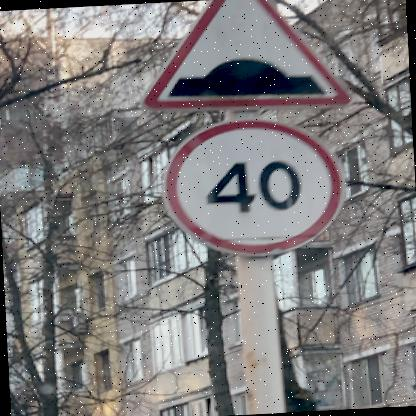speedlimit: (156, 114, 347, 260)
